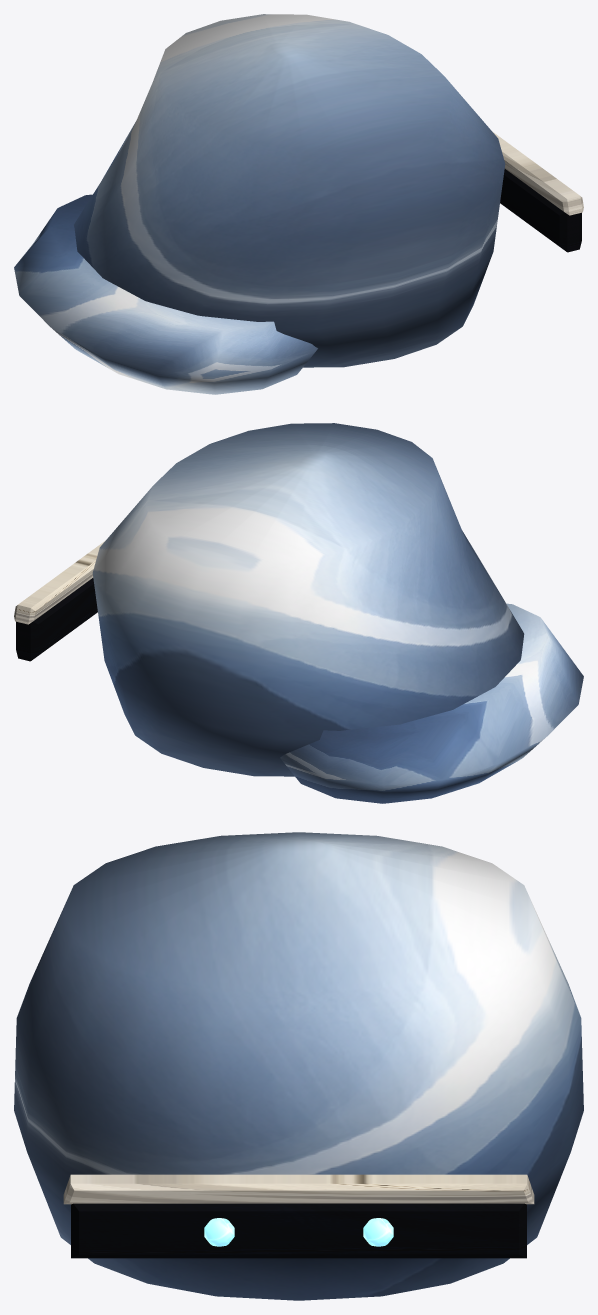
Rendered from sallet.glb.
3 renders of one model, top to bottom at view 1: azimuth 30°, elevation 25°; view 2: azimuth 150°, elevation 25°; view 3: azimuth 270°, elevation 25°, orthographic. The views are drawn at different scales.
Parts seen in each view (by area): view 1: head; view 2: head; view 3: head.
Part boxes in pixels (left/top/right/bottom): head: left=14, top=14, right=583, bottom=394; head: left=14, top=423, right=583, bottom=803; head: left=14, top=832, right=583, bottom=1300.
Bounding box in the file's own units: 0.557 × 0.286 × 0.4275.
Materials: 4 (4 with a texture image).
